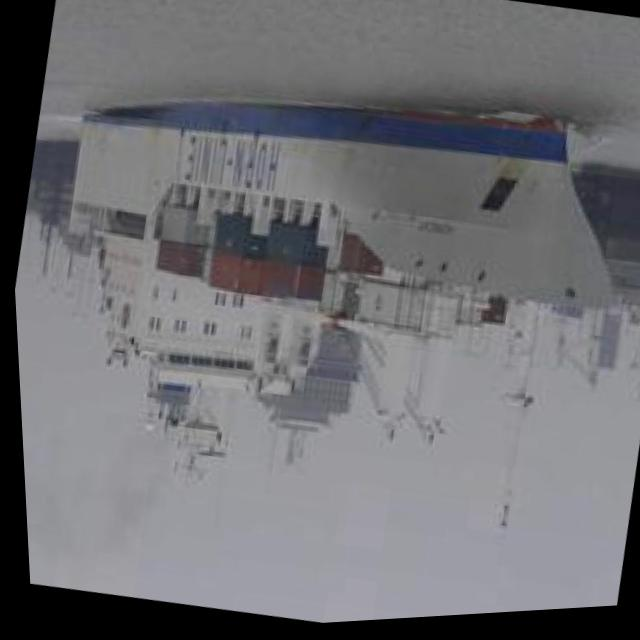ship2: (64, 106, 612, 548)
